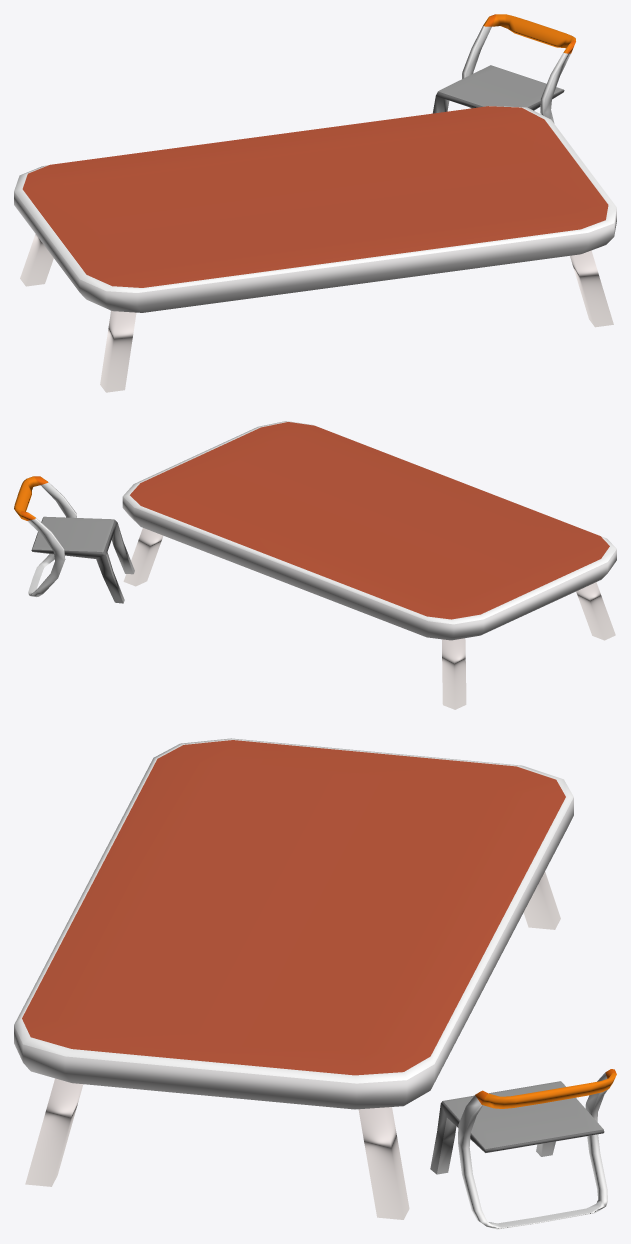
Rendered from Table_lv1_v2.FBX.
3 views of the same model, one above another, from view 1: azimuth 30°, elevation 25°; view 2: azimuth 150°, elevation 25°; view 3: azimuth 270°, elevation 25° (orthographic). The views are drawn at different scales.
Parts seen in each view (by area): view 1: LV1; view 2: LV1; view 3: LV1.
Part boxes in pixels (x1,y1,x2,y2): LV1: (14,14,616,392); LV1: (14,421,616,709); LV1: (14,738,616,1229).
Bounding box in the file's own units: 7.79 × 1.62 × 5.02.
